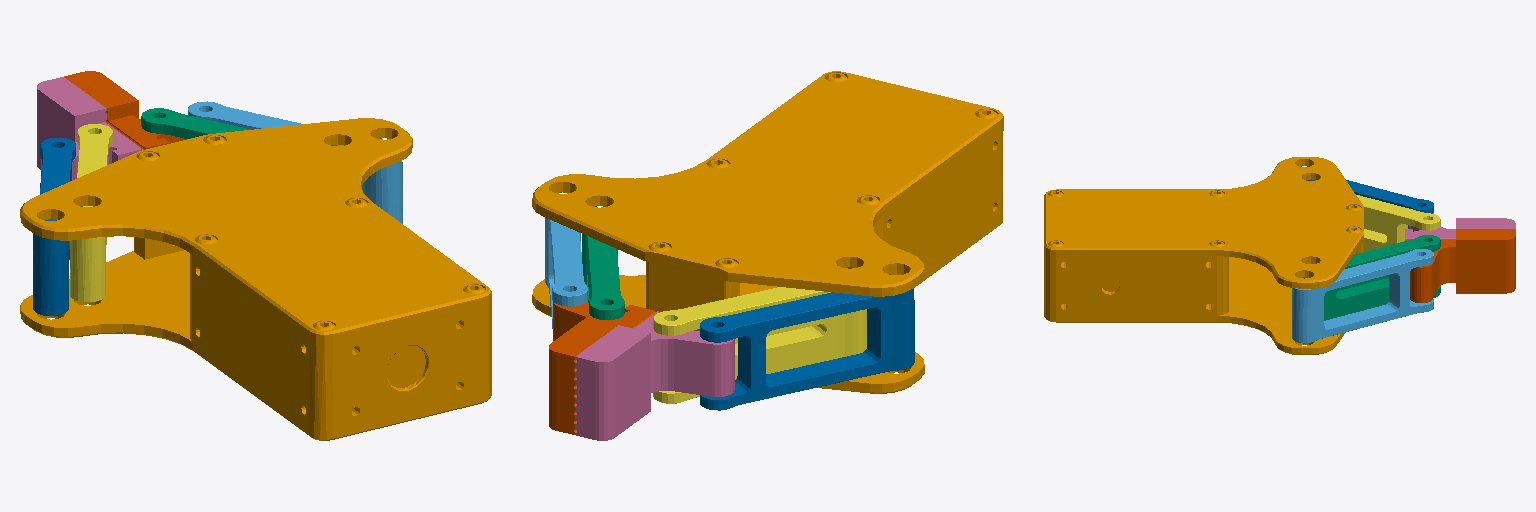
robot.urdf — ur5_inspire:
<?xml version="1.0" ?>
<robot name="ur5_inspire">
  <!-- Fixed UR5 + Inspire EG2-4C2. SI units. q=0 closed, q=0.82 open. Mount transform is configured in build_assets_ur5_inspire.py. -->
  <link name="base_link">
    <visual>
      <geometry>
        <mesh filename="meshes_ur5_inspire/ur5_base_ur5_inspire.stl"/>
      </geometry>
      <material name="LightGrey">
        <color rgba="0.7 0.7 0.7 1.0"/>
      </material>
    </visual>
    <collision>
      <geometry>
        <mesh filename="meshes_ur5_inspire/ur5_base_ur5_inspire.stl"/>
      </geometry>
    </collision>
    <inertial>
      <mass value="4.0"/>
      <origin rpy="0 0 0" xyz="0.0 0.0 0.0"/>
      <inertia ixx="0.00443333156" ixy="0.0" ixz="0.0" iyy="0.00443333156" iyz="0.0" izz="0.0072"/>
    </inertial>
  </link>
  <joint name="shoulder_pan_joint" type="revolute">
    <parent link="base_link"/>
    <child link="shoulder_link"/>
    <origin rpy="0.0 0.0 0.0" xyz="0.0 0.0 0.089159"/>
    <axis xyz="0 0 1"/>
    <limit effort="150.0" lower="-3.14159265359" upper="3.14159265359" velocity="3.15"/>
    <dynamics damping="0.0" friction="0.0"/>
  </joint>
  <link name="shoulder_link">
    <visual>
      <geometry>
        <mesh filename="meshes_ur5_inspire/ur5_shoulder_ur5_inspire.stl"/>
      </geometry>
      <material name="LightGrey">
        <color rgba="0.7 0.7 0.7 1.0"/>
      </material>
    </visual>
    <collision>
      <geometry>
        <mesh filename="meshes_ur5_inspire/ur5_shoulder_ur5_inspire.stl"/>
      </geometry>
    </collision>
    <inertial>
      <mass value="3.7"/>
      <origin rpy="0 0 0" xyz="0.0 0.0 0.0"/>
      <inertia ixx="0.010267495893" ixy="0.0" ixz="0.0" iyy="0.010267495893" iyz="0.0" izz="0.00666"/>
    </inertial>
  </link>
  <joint name="shoulder_lift_joint" type="revolute">
    <parent link="shoulder_link"/>
    <child link="upper_arm_link"/>
    <origin rpy="0.0 1.57079632679 0.0" xyz="0.0 0.13585 0.0"/>
    <axis xyz="0 1 0"/>
    <limit effort="150.0" lower="-3.14159265359" upper="3.14159265359" velocity="3.15"/>
    <dynamics damping="0.0" friction="0.0"/>
  </joint>
  <link name="upper_arm_link">
    <visual>
      <geometry>
        <mesh filename="meshes_ur5_inspire/ur5_upperarm_ur5_inspire.stl"/>
      </geometry>
      <material name="LightGrey">
        <color rgba="0.7 0.7 0.7 1.0"/>
      </material>
    </visual>
    <collision>
      <geometry>
        <mesh filename="meshes_ur5_inspire/ur5_upperarm_ur5_inspire.stl"/>
      </geometry>
    </collision>
    <inertial>
      <mass value="8.393"/>
      <origin rpy="0 0 0" xyz="0.0 0.0 0.28"/>
      <inertia ixx="0.22689067591" ixy="0.0" ixz="0.0" iyy="0.22689067591" iyz="0.0" izz="0.0151074"/>
    </inertial>
  </link>
  <joint name="elbow_joint" type="revolute">
    <parent link="upper_arm_link"/>
    <child link="forearm_link"/>
    <origin rpy="0.0 0.0 0.0" xyz="0.0 -0.1197 0.425"/>
    <axis xyz="0 1 0"/>
    <limit effort="150.0" lower="-3.14159265359" upper="3.14159265359" velocity="3.15"/>
    <dynamics damping="0.0" friction="0.0"/>
  </joint>
  <link name="forearm_link">
    <visual>
      <geometry>
        <mesh filename="meshes_ur5_inspire/ur5_forearm_ur5_inspire.stl"/>
      </geometry>
      <material name="LightGrey">
        <color rgba="0.7 0.7 0.7 1.0"/>
      </material>
    </visual>
    <collision>
      <geometry>
        <mesh filename="meshes_ur5_inspire/ur5_forearm_ur5_inspire.stl"/>
      </geometry>
    </collision>
    <inertial>
      <mass value="2.275"/>
      <origin rpy="0 0 0" xyz="0.0 0.0 0.25"/>
      <inertia ixx="0.049443313556" ixy="0.0" ixz="0.0" iyy="0.049443313556" iyz="0.0" izz="0.004095"/>
    </inertial>
  </link>
  <joint name="wrist_1_joint" type="revolute">
    <parent link="forearm_link"/>
    <child link="wrist_1_link"/>
    <origin rpy="0.0 1.57079632679 0.0" xyz="0.0 0.0 0.39225"/>
    <axis xyz="0 1 0"/>
    <limit effort="28.0" lower="-3.14159265359" upper="3.14159265359" velocity="3.2"/>
    <dynamics damping="0.0" friction="0.0"/>
  </joint>
  <link name="wrist_1_link">
    <visual>
      <geometry>
        <mesh filename="meshes_ur5_inspire/ur5_wrist1_ur5_inspire.stl"/>
      </geometry>
      <material name="LightGrey">
        <color rgba="0.7 0.7 0.7 1.0"/>
      </material>
    </visual>
    <collision>
      <geometry>
        <mesh filename="meshes_ur5_inspire/ur5_wrist1_ur5_inspire.stl"/>
      </geometry>
    </collision>
    <inertial>
      <mass value="1.219"/>
      <origin rpy="0 0 0" xyz="0.0 0.0 0.0"/>
      <inertia ixx="0.111172755531" ixy="0.0" ixz="0.0" iyy="0.111172755531" iyz="0.0" izz="0.21942"/>
    </inertial>
  </link>
  <joint name="wrist_2_joint" type="revolute">
    <parent link="wrist_1_link"/>
    <child link="wrist_2_link"/>
    <origin rpy="0.0 0.0 0.0" xyz="0.0 0.093 0.0"/>
    <axis xyz="0 0 1"/>
    <limit effort="28.0" lower="-3.14159265359" upper="3.14159265359" velocity="3.2"/>
    <dynamics damping="0.0" friction="0.0"/>
  </joint>
  <link name="wrist_2_link">
    <visual>
      <geometry>
        <mesh filename="meshes_ur5_inspire/ur5_wrist2_ur5_inspire.stl"/>
      </geometry>
      <material name="LightGrey">
        <color rgba="0.7 0.7 0.7 1.0"/>
      </material>
    </visual>
    <collision>
      <geometry>
        <mesh filename="meshes_ur5_inspire/ur5_wrist2_ur5_inspire.stl"/>
      </geometry>
    </collision>
    <inertial>
      <mass value="1.219"/>
      <origin rpy="0 0 0" xyz="0.0 0.0 0.0"/>
      <inertia ixx="0.111172755531" ixy="0.0" ixz="0.0" iyy="0.111172755531" iyz="0.0" izz="0.21942"/>
    </inertial>
  </link>
  <joint name="wrist_3_joint" type="revolute">
    <parent link="wrist_2_link"/>
    <child link="wrist_3_link"/>
    <origin rpy="0.0 0.0 0.0" xyz="0.0 0.0 0.09465"/>
    <axis xyz="0 1 0"/>
    <limit effort="28.0" lower="-3.14159265359" upper="3.14159265359" velocity="3.2"/>
    <dynamics damping="0.0" friction="0.0"/>
  </joint>
  <link name="wrist_3_link">
    <visual>
      <geometry>
        <mesh filename="meshes_ur5_inspire/ur5_wrist3_ur5_inspire.stl"/>
      </geometry>
      <material name="LightGrey">
        <color rgba="0.7 0.7 0.7 1.0"/>
      </material>
    </visual>
    <collision>
      <geometry>
        <mesh filename="meshes_ur5_inspire/ur5_wrist3_ur5_inspire.stl"/>
      </geometry>
    </collision>
    <inertial>
      <mass value="0.1879"/>
      <origin rpy="0 0 0" xyz="0.0 0.0 0.0"/>
      <inertia ixx="0.0171364731454" ixy="0.0" ixz="0.0" iyy="0.0171364731454" iyz="0.0" izz="0.033822"/>
    </inertial>
  </link>
  <link name="tool0"/>
  <joint name="wrist_3_link-tool0_fixed_joint" type="fixed">
    <origin rpy="-1.57079632679 0 0" xyz="0 0.0823 0"/>
    <parent link="wrist_3_link"/>
    <child link="tool0"/>
  </joint>
  <link name="inspire_gripper_base">
    <inertial>
      <origin xyz="1.5645E-05 -4.1838E-06 0.038"/>
      <mass value="0.072633"/>
      <inertia ixx="5.095E-05" ixy="-7.3167E-13" ixz="2.0229E-08" iyy="6.0883E-05" iyz="-4.5583E-09" izz="1.933E-05"/>
    </inertial>
    <visual>
      <geometry>
        <mesh filename="meshes_ur5_inspire/baselink_ur5_inspire.obj"/>
      </geometry>
    </visual>
    <collision>
      <geometry>
        <mesh filename="meshes_ur5_inspire/baselink_ur5_inspire.obj"/>
      </geometry>
    </collision>
  </link>
  <link name="inspire_left_outer_link">
    <inertial>
      <origin xyz="0.0087669 0.009 0.013992"/>
      <mass value="0.0024292"/>
      <inertia ixx="5.1061E-07" ixy="-8.6739E-19" ixz="-2.508E-07" iyy="5.7398E-07" iyz="-1.3667E-18" izz="2.6747E-07"/>
    </inertial>
    <visual>
      <geometry>
        <mesh filename="meshes_ur5_inspire/outer_link_ur5_inspire.obj"/>
      </geometry>
    </visual>
    <collision>
      <geometry>
        <mesh filename="meshes_ur5_inspire/outer_link_ur5_inspire.obj"/>
      </geometry>
    </collision>
  </link>
  <joint name="inspire_gripper_joint" type="revolute">
    <origin xyz="-0.04 -0.009 0.079"/>
    <parent link="inspire_gripper_base"/>
    <child link="inspire_left_outer_link"/>
    <axis xyz="0 -1 0"/>
    <limit effort="50" lower="0" upper="0.82" velocity="3.141592653589793"/>
  </joint>
  <link name="inspire_left_inner_link">
    <inertial>
      <origin xyz="0.0087435 0.009 0.013955"/>
      <mass value="0.0038971"/>
      <inertia ixx="5.6941E-07" ixy="-1.0711E-18" ixz="-2.6891E-07" iyy="6.2305E-07" iyz="-1.6845E-18" izz="3.0871E-07"/>
    </inertial>
    <visual>
      <geometry>
        <mesh filename="meshes_ur5_inspire/inner_link_ur5_inspire.obj"/>
      </geometry>
    </visual>
    <collision>
      <geometry>
        <mesh filename="meshes_ur5_inspire/inner_link_ur5_inspire.obj"/>
      </geometry>
    </collision>
  </link>
  <joint name="inspire_left_inner_joint" type="revolute">
    <origin xyz="-0.03 -0.009 0.081"/>
    <parent link="inspire_gripper_base"/>
    <child link="inspire_left_inner_link"/>
    <axis xyz="0 -1 0"/>
    <limit effort="50" lower="0" upper="0.82" velocity="3.141592653589793"/>
    <mimic joint="inspire_gripper_joint"/>
  </joint>
  <link name="inspire_right_inner_link">
    <inertial>
      <origin xyz="-0.0087435 0.009 0.013955"/>
      <mass value="0.0038971"/>
      <inertia ixx="5.6941E-07" ixy="1.0666E-18" ixz="2.6891E-07" iyy="6.2305E-07" iyz="-1.8084E-18" izz="3.0871E-07"/>
    </inertial>
    <visual>
      <geometry>
        <mesh filename="meshes_ur5_inspire/inner_link_mirror_ur5_inspire.obj"/>
      </geometry>
    </visual>
    <collision>
      <geometry>
        <mesh filename="meshes_ur5_inspire/inner_link_mirror_ur5_inspire.obj"/>
      </geometry>
    </collision>
  </link>
  <joint name="inspire_right_inner_joint" type="revolute">
    <origin xyz="0.03 -0.009 0.081"/>
    <parent link="inspire_gripper_base"/>
    <child link="inspire_right_inner_link"/>
    <axis xyz="0 1 0"/>
    <limit effort="50" lower="0" upper="0.82" velocity="3.141592653589793"/>
    <mimic joint="inspire_gripper_joint" multiplier="1" offset="0"/>
  </joint>
  <link name="inspire_right_outer_link">
    <inertial>
      <origin xyz="-0.0087669 0.009 0.013992"/>
      <mass value="0.0024292"/>
      <inertia ixx="5.1061E-07" ixy="-9.5279E-19" ixz="2.508E-07" iyy="5.7398E-07" iyz="7.6863E-19" izz="2.6747E-07"/>
    </inertial>
    <visual>
      <geometry>
        <mesh filename="meshes_ur5_inspire/outer_link_mirror_ur5_inspire.obj"/>
      </geometry>
    </visual>
    <collision>
      <geometry>
        <mesh filename="meshes_ur5_inspire/outer_link_mirror_ur5_inspire.obj"/>
      </geometry>
    </collision>
  </link>
  <joint name="inspire_right_outer_joint" type="revolute">
    <origin xyz="0.04 -0.009 0.079"/>
    <parent link="inspire_gripper_base"/>
    <child link="inspire_right_outer_link"/>
    <axis xyz="0 1 0"/>
    <limit effort="50" lower="0" upper="0.82" velocity="3.141592653589793"/>
    <mimic joint="inspire_gripper_joint" multiplier="1" offset="0"/>
  </joint>
  <link name="inspire_left_pad">
    <inertial>
      <origin xyz="0.011864 0.006 0.011367"/>
      <mass value="0.0045068"/>
      <inertia ixx="5.1288E-07" ixy="-9.8137E-14" ixz="-9.4703E-08" iyy="5.3203E-07" iyz="-6.212E-14" izz="2.009E-07"/>
    </inertial>
    <visual>
      <geometry>
        <mesh filename="meshes_ur5_inspire/pad_ur5_inspire.obj"/>
      </geometry>
    </visual>
    <collision>
      <geometry>
        <mesh filename="meshes_ur5_inspire/pad_ur5_inspire.obj"/>
      </geometry>
    </collision>
  </link>
  <joint name="inspire_left_pad_joint" type="revolute">
    <origin xyz="0.0223 0.003 0.035591"/>
    <parent link="inspire_left_outer_link"/>
    <child link="inspire_left_pad"/>
    <axis xyz="0 1 0"/>
    <limit effort="50" lower="0" upper="0.82" velocity="3.141592653589793"/>
    <mimic joint="inspire_gripper_joint" multiplier="1" offset="0"/>
  </joint>
  <link name="inspire_right_pad">
    <inertial>
      <origin xyz="-0.011864 0.006 0.011367"/>
      <mass value="0.0045068"/>
      <inertia ixx="5.1288E-07" ixy="-9.8137E-14" ixz="9.4703E-08" iyy="5.3203E-07" iyz="6.2119E-14" izz="2.009E-07"/>
    </inertial>
    <visual>
      <geometry>
        <mesh filename="meshes_ur5_inspire/pad_mirror_ur5_inspire.obj"/>
      </geometry>
    </visual>
    <collision>
      <geometry>
        <mesh filename="meshes_ur5_inspire/pad_mirror_ur5_inspire.obj"/>
      </geometry>
    </collision>
  </link>
  <joint name="inspire_right_pad_joint" type="revolute">
    <origin xyz="-0.0223 0.003 0.035591"/>
    <parent link="inspire_right_outer_link"/>
    <child link="inspire_right_pad"/>
    <axis xyz="0 -1 0"/>
    <limit effort="50" lower="0" upper="0.82" velocity="3.141592653589793"/>
    <mimic joint="inspire_gripper_joint" multiplier="1" offset="0"/>
  </joint>
  <link name="inspire_eef"/>
  <joint name="inspire_eef_joint" type="fixed">
    <parent link="inspire_gripper_base"/>
    <child link="inspire_eef"/>
    <origin xyz="0 0 0.14"/>
  </joint>
  <joint name="ur5_inspire_mount" type="fixed">
    <parent link="tool0"/>
    <child link="inspire_gripper_base"/>
    <origin xyz="0 0 0" rpy="0 0 0"/>
  </joint>
  <link name="left_tip_ur5_inspire"/>
  <joint name="left_tip_fixed_ur5_inspire" type="fixed">
    <parent link="inspire_left_pad"/>
    <child link="left_tip_ur5_inspire"/>
    <origin xyz="0.0177 0.006 0.015" rpy="0 0 1.5707963267948966"/>
  </joint>
  <link name="right_tip_ur5_inspire"/>
  <joint name="right_tip_fixed_ur5_inspire" type="fixed">
    <parent link="inspire_right_pad"/>
    <child link="right_tip_ur5_inspire"/>
    <origin xyz="-0.0177 0.006 0.015" rpy="0 0 1.5707963267948966"/>
  </joint>
  <link name="tcp_ur5_inspire"/>
  <joint name="tcp_fixed_ur5_inspire" type="fixed">
    <parent link="inspire_gripper_base"/>
    <child link="tcp_ur5_inspire"/>
    <origin xyz="0 0 0.14" rpy="0 0 1.5707963267948966"/>
  </joint>
</robot>

--- Facts derived from the render (not from the file) ---
The picture shows the robot from 3 angles, left to right: view 1: azimuth 30°, elevation 25°; view 2: azimuth 150°, elevation 25°; view 3: azimuth 270°, elevation 25°; orthographic projection.
Robot: ur5_inspire — 19 links, 18 joints (12 revolute, 6 fixed); root link base_link; default pose: every joint at zero.
Links seen in each view (by area): view 1: inspire_gripper_base, inspire_right_outer_link, inspire_right_pad, inspire_right_inner_link, inspire_left_outer_link, inspire_left_pad, inspire_left_inner_link; view 2: inspire_gripper_base, inspire_right_outer_link, inspire_right_pad, inspire_right_inner_link, inspire_left_pad, inspire_left_outer_link, inspire_left_inner_link; view 3: inspire_gripper_base, inspire_left_outer_link, inspire_left_pad, inspire_left_inner_link, inspire_right_inner_link, inspire_right_pad, inspire_right_outer_link.
Link boxes in pixels (box(x1,y1,x2,y2)): inspire_gripper_base: box(20, 118, 491, 440); inspire_right_outer_link: box(33, 138, 75, 315); inspire_right_pad: box(37, 77, 142, 180); inspire_right_inner_link: box(70, 124, 112, 302); inspire_left_outer_link: box(188, 101, 402, 223); inspire_left_pad: box(64, 71, 186, 149); inspire_left_inner_link: box(141, 108, 251, 138); inspire_gripper_base: box(532, 71, 1003, 393); inspire_right_outer_link: box(700, 288, 914, 410); inspire_right_pad: box(575, 311, 734, 440); inspire_right_inner_link: box(653, 287, 866, 403); inspire_left_pad: box(549, 301, 655, 434); inspire_left_outer_link: box(545, 218, 587, 328); inspire_left_inner_link: box(582, 234, 624, 319); inspire_gripper_base: box(1044, 157, 1363, 354); inspire_left_outer_link: box(1292, 249, 1433, 343); inspire_left_pad: box(1405, 229, 1515, 302); inspire_left_inner_link: box(1304, 235, 1440, 320); inspire_right_inner_link: box(1356, 195, 1440, 251); inspire_right_pad: box(1405, 218, 1515, 238); inspire_right_outer_link: box(1308, 180, 1433, 228).
Bounding box of the posed robot: 0.09 × 0.1431 × 0.0255 m (x, y, z).
Meshes: 14 distinct files referenced, 7 mesh visuals loaded (7 OBJ); not drawn: 7 (reference not matched to a file when rendering).
